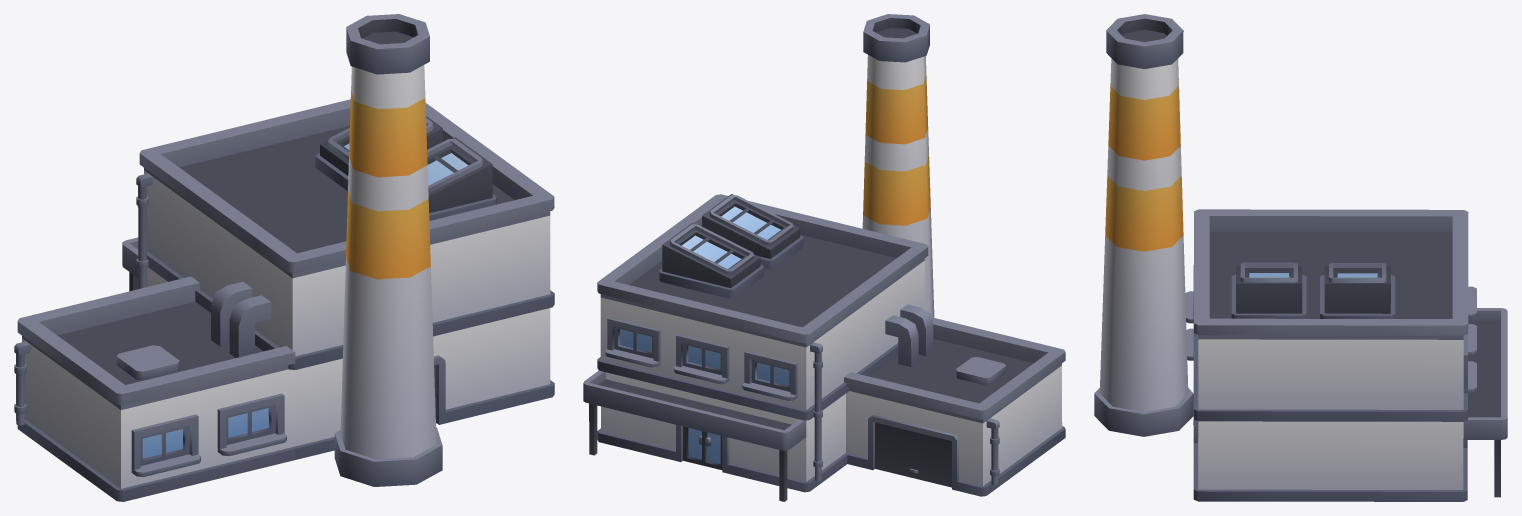
File: building-l_lev1.glb
3 renders of one model, left to right at view 1: azimuth 30°, elevation 25°; view 2: azimuth 150°, elevation 25°; view 3: azimuth 270°, elevation 25°, orthographic. The views are drawn at different scales.
Visible parts, largest first — view 1: building-l_lev1; view 2: building-l_lev1; view 3: building-l_lev1.
Boxes of the visible parts, x1,y1,x2,y2 form: building-l_lev1: (14,14,554,501); building-l_lev1: (583,14,1065,501); building-l_lev1: (1094,14,1507,501).
Bounding box in the file's own units: 2.08 × 1.93 × 1.87.
1 material, 1 textured.
